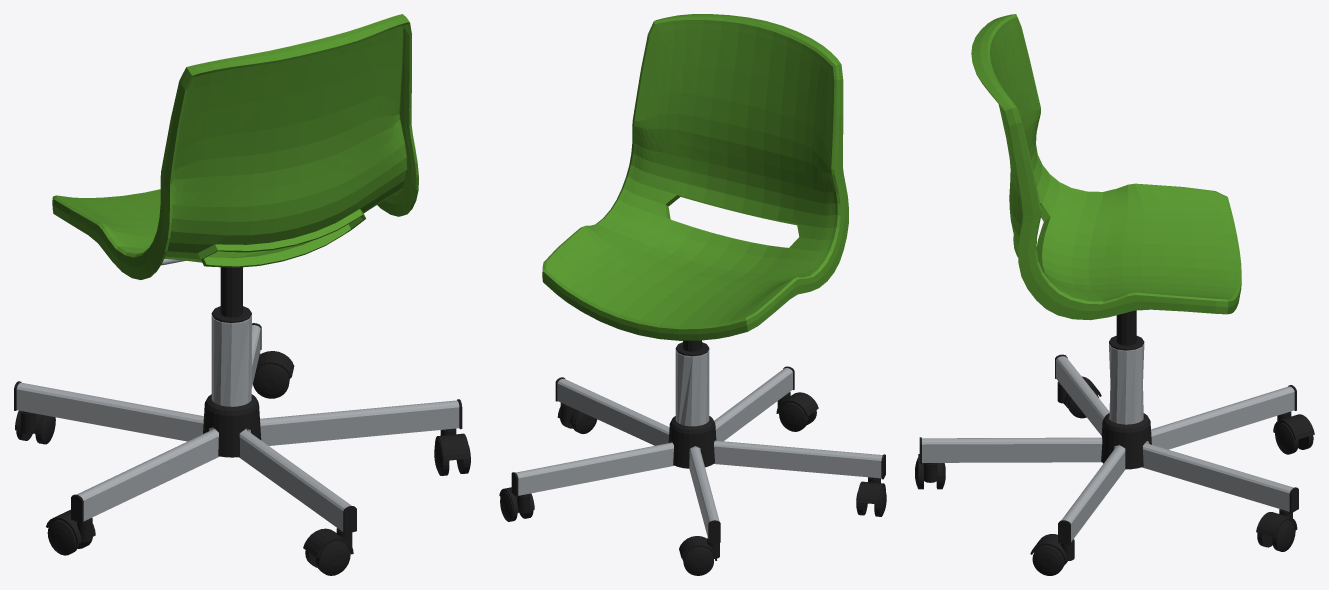
The picture shows the model from 3 angles, left to right: view 1: azimuth 30°, elevation 25°; view 2: azimuth 150°, elevation 25°; view 3: azimuth 270°, elevation 25°; orthographic projection. The views are drawn at different scales.
Parts seen in each view (by area): view 1: Mesh2 Group2 SNILLE_IKEA1 Model, Mesh8 Group6 SNILLE_IKEA1 Model, Mesh7 Group5 SNILLE_IKEA1 Model, Mesh1 Group1 SNILLE_IKEA1 Model, Mesh3 Group3 SNILLE_IKEA1 Model, Mesh22 ROULETTE5 SNILLE_IKEA1 Model, Mesh14 ROULETTE2 SNILLE_IKEA1 Model, Mesh15 ROULETTE3 SNILLE_IKEA1 Model, Mesh12 ROULETTE2 SNILLE_IKEA1 Model, Mesh20 ROULETTE4 SNILLE_IKEA1 Model, Mesh18 ROULETTE4 SNILLE_IKEA1 Model; view 2: Mesh2 Group2 SNILLE_IKEA1 Model, Mesh8 Group6 SNILLE_IKEA1 Model, Mesh7 Group5 SNILLE_IKEA1 Model, Mesh1 Group1 SNILLE_IKEA1 Model, Mesh11 ROULETTE1 SNILLE_IKEA1 Model, Mesh13 ROULETTE2 SNILLE_IKEA1 Model, Mesh18 ROULETTE4 SNILLE_IKEA1 Model, Mesh12 ROULETTE2 SNILLE_IKEA1 Model, Mesh9 ROULETTE1 SNILLE_IKEA1 Model; view 3: Mesh2 Group2 SNILLE_IKEA1 Model, Mesh8 Group6 SNILLE_IKEA1 Model, Mesh7 Group5 SNILLE_IKEA1 Model, Mesh1 Group1 SNILLE_IKEA1 Model, Mesh3 Group3 SNILLE_IKEA1 Model, Mesh17 ROULETTE3 SNILLE_IKEA1 Model, Mesh9 ROULETTE1 SNILLE_IKEA1 Model, Mesh21 ROULETTE5 SNILLE_IKEA1 Model, Mesh15 ROULETTE3 SNILLE_IKEA1 Model, Mesh10 ROULETTE1 SNILLE_IKEA1 Model, Mesh23 ROULETTE5 SNILLE_IKEA1 Model.
Part boxes in pixels (bbox=[...]): Mesh2 Group2 SNILLE_IKEA1 Model: bbox=[52, 14, 418, 279]; Mesh8 Group6 SNILLE_IKEA1 Model: bbox=[14, 323, 462, 534]; Mesh7 Group5 SNILLE_IKEA1 Model: bbox=[211, 315, 251, 406]; Mesh1 Group1 SNILLE_IKEA1 Model: bbox=[203, 394, 261, 457]; Mesh3 Group3 SNILLE_IKEA1 Model: bbox=[211, 267, 251, 322]; Mesh22 ROULETTE5 SNILLE_IKEA1 Model: bbox=[253, 364, 289, 398]; Mesh14 ROULETTE2 SNILLE_IKEA1 Model: bbox=[316, 540, 350, 575]; Mesh15 ROULETTE3 SNILLE_IKEA1 Model: bbox=[434, 428, 470, 460]; Mesh12 ROULETTE2 SNILLE_IKEA1 Model: bbox=[303, 528, 353, 557]; Mesh20 ROULETTE4 SNILLE_IKEA1 Model: bbox=[47, 519, 78, 555]; Mesh18 ROULETTE4 SNILLE_IKEA1 Model: bbox=[46, 509, 95, 543]; Mesh2 Group2 SNILLE_IKEA1 Model: bbox=[542, 14, 848, 340]; Mesh8 Group6 SNILLE_IKEA1 Model: bbox=[511, 366, 885, 542]; Mesh7 Group5 SNILLE_IKEA1 Model: bbox=[675, 350, 709, 426]; Mesh1 Group1 SNILLE_IKEA1 Model: bbox=[668, 416, 716, 468]; Mesh11 ROULETTE1 SNILLE_IKEA1 Model: bbox=[683, 547, 713, 575]; Mesh13 ROULETTE2 SNILLE_IKEA1 Model: bbox=[779, 402, 808, 431]; Mesh18 ROULETTE4 SNILLE_IKEA1 Model: bbox=[857, 477, 885, 504]; Mesh12 ROULETTE2 SNILLE_IKEA1 Model: bbox=[776, 392, 818, 416]; Mesh9 ROULETTE1 SNILLE_IKEA1 Model: bbox=[679, 536, 719, 560]; Mesh2 Group2 SNILLE_IKEA1 Model: bbox=[971, 14, 1241, 320]; Mesh8 Group6 SNILLE_IKEA1 Model: bbox=[919, 354, 1298, 544]; Mesh7 Group5 SNILLE_IKEA1 Model: bbox=[1109, 344, 1144, 424]; Mesh1 Group1 SNILLE_IKEA1 Model: bbox=[1101, 413, 1151, 469]; Mesh3 Group3 SNILLE_IKEA1 Model: bbox=[1109, 310, 1144, 350]; Mesh17 ROULETTE3 SNILLE_IKEA1 Model: bbox=[1032, 545, 1064, 575]; Mesh9 ROULETTE1 SNILLE_IKEA1 Model: bbox=[1273, 411, 1314, 440]; Mesh21 ROULETTE5 SNILLE_IKEA1 Model: bbox=[1256, 509, 1297, 537]; Mesh15 ROULETTE3 SNILLE_IKEA1 Model: bbox=[1030, 534, 1074, 563]; Mesh10 ROULETTE1 SNILLE_IKEA1 Model: bbox=[1275, 422, 1298, 454]; Mesh23 ROULETTE5 SNILLE_IKEA1 Model: bbox=[1272, 520, 1295, 551].
Size of the model in its own units: 0.596 by 0.7154 by 0.5842.
